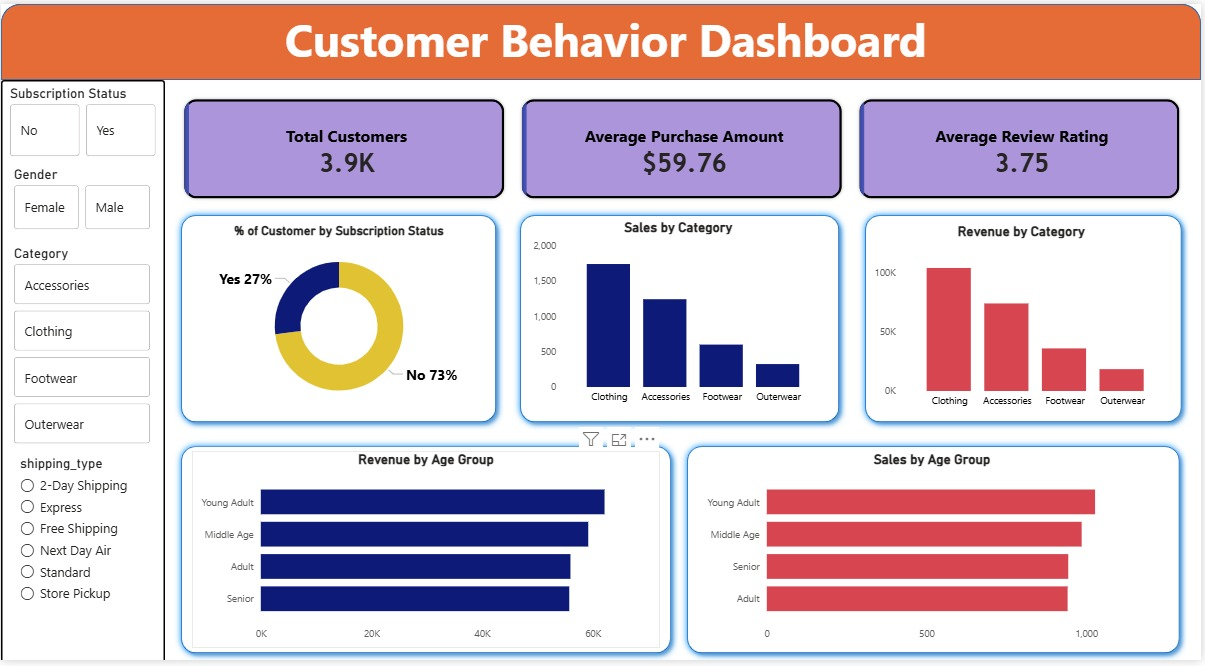

The page's visual inventory and layout, read from the dashboard file:
{"tool":"powerbi","page":{"name":"Page 1","canvas":[1500,820],"ordinal":0},"visuals":[{"type":"cardVisual","fields":{"Data":["public revenue_data.total_customers","public revenue_data.avg_purchase_amt","public revenue_data.avg_review_rating"]},"box":[205.3,95.3,1294.7,172.9],"z":0},{"type":"shape","box":[0,0,1500,95],"z":1000},{"type":"textbox","box":[350,1.7,841.7,91.7],"z":2000},{"type":"shape","box":[0,95,205,805],"z":3000},{"type":"shape","box":[216.7,255,411.7,276.7],"z":4000},{"type":"shape","box":[216.7,543.3,630,276.7],"z":5000},{"type":"shape","box":[848.3,543.3,633.3,276.7],"z":6000},{"type":"donutChart","title":"% of Customer by Subscription Status","fields":{"Category":["public revenue_data.subscription_status"],"Y":["CountNonNull(public revenue_data.customer_id)"]},"box":[235,273.3,375,240],"z":7000},{"type":"shape","box":[640,255,416.7,276.7],"z":8000},{"type":"shape","box":[1071.7,255,413.3,276.7],"z":9000},{"type":"clusteredColumnChart","title":"Revenue by Category","fields":{"Y":["Sum(public revenue_data.purchase_amount)"],"Category":["public revenue_data.category"]},"box":[1086.7,273.3,378.3,240],"z":10000},{"type":"clusteredColumnChart","title":"Sales by Category","fields":{"Category":["public revenue_data.category"],"Y":["CountNonNull(public revenue_data.customer_id)"]},"box":[660,268.3,373.3,240],"z":11000},{"type":"advancedSlicerVisual","title":"Subscription Status","fields":{"Values":["public revenue_data.subscription_status"]},"box":[6.4,101.8,193.6,94.5],"z":12000},{"type":"advancedSlicerVisual","title":"Gender","fields":{"Values":["public revenue_data.gender"]},"box":[11.8,202.7,180.9,84.5],"z":13000},{"type":"advancedSlicerVisual","title":"Category","fields":{"Values":["public revenue_data.category"]},"box":[11.8,301.8,180.9,253.6],"z":14000},{"type":"listSlicer","fields":{"Values":["public revenue_data.shipping_type"]},"box":[18.2,563.6,168.2,250],"z":14001},{"type":"barChart","title":"Revenue by Age Group","fields":{"Category":["public revenue_data.age_group"],"Y":["Sum(public revenue_data.purchase_amount)"]},"box":[238.3,558.3,585,246.7],"z":14002},{"type":"barChart","title":"Sales by Age Group","fields":{"Category":["public revenue_data.age_group"],"Y":["CountNonNull(public revenue_data.customer_id)"]},"box":[871.7,558.3,585,246.7],"z":14003}]}

Visuals, with their boxes in screenshot pixels (x1, y1, x2, y2), scaled from the page's 1500x820 canvas onto the 1205x666 screenshot:
cardVisual - public revenue_data.total_customers x public revenue_data.avg_purchase_amt: box=[165, 77, 1204, 218]
shape: box=[0, 0, 1204, 77]
textbox: box=[281, 1, 957, 76]
shape: box=[0, 77, 165, 665]
shape: box=[174, 207, 505, 432]
shape: box=[174, 441, 680, 665]
shape: box=[681, 441, 1190, 665]
"% of Customer by Subscription Status" donutChart: box=[189, 222, 490, 417]
shape: box=[514, 207, 849, 432]
shape: box=[861, 207, 1193, 432]
"Revenue by Category" clusteredColumnChart: box=[873, 222, 1177, 417]
"Sales by Category" clusteredColumnChart: box=[530, 218, 830, 413]
"Subscription Status" advancedSlicerVisual: box=[5, 83, 161, 159]
"Gender" advancedSlicerVisual: box=[9, 165, 155, 233]
"Category" advancedSlicerVisual: box=[9, 245, 155, 451]
listSlicer - public revenue_data.shipping_type: box=[15, 458, 150, 661]
"Revenue by Age Group" barChart: box=[191, 453, 661, 654]
"Sales by Age Group" barChart: box=[700, 453, 1170, 654]
